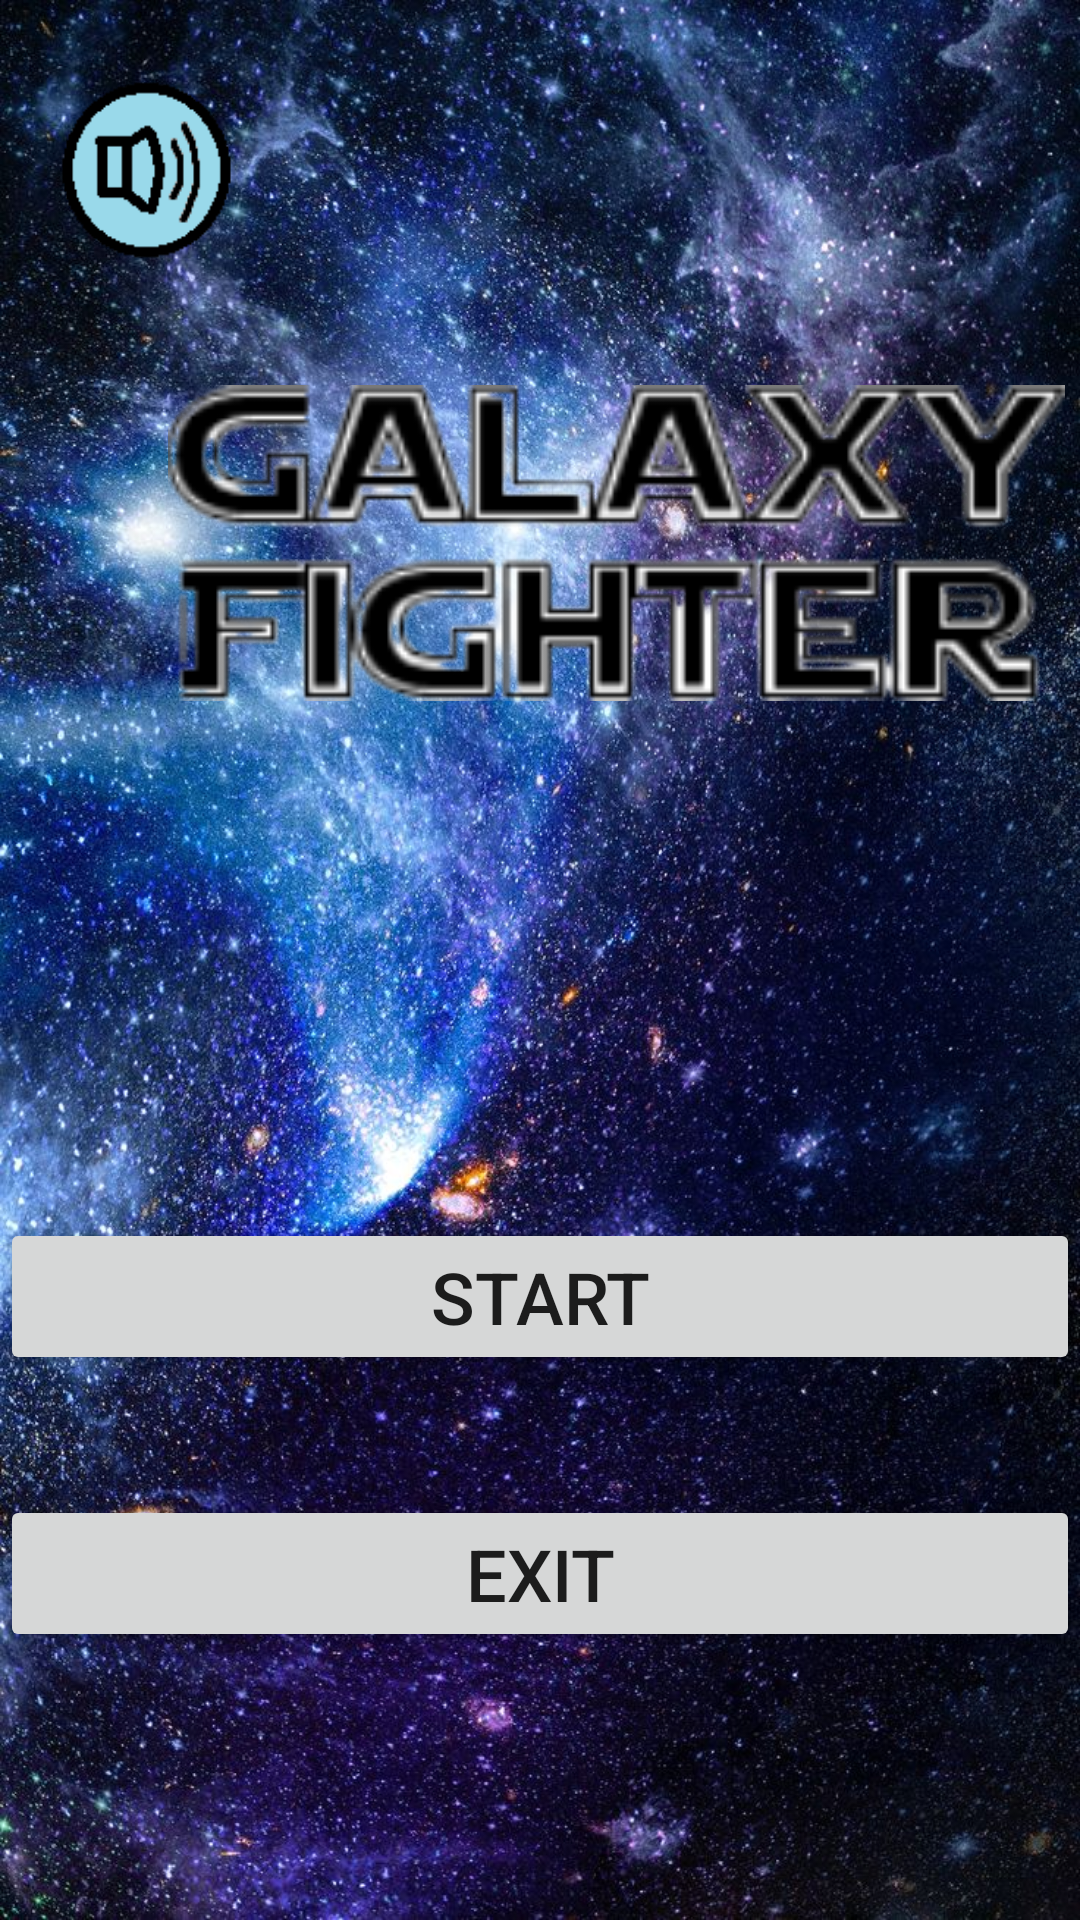

Where to tap for icons on this 1080w x 1920h app screen, as (x=x, y=y):
sound on: (x=148, y=171)
